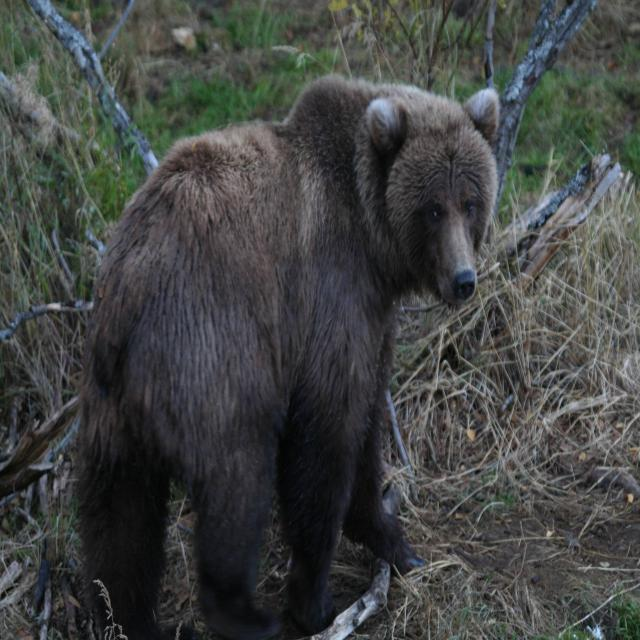bear face: (84, 77, 502, 637)
